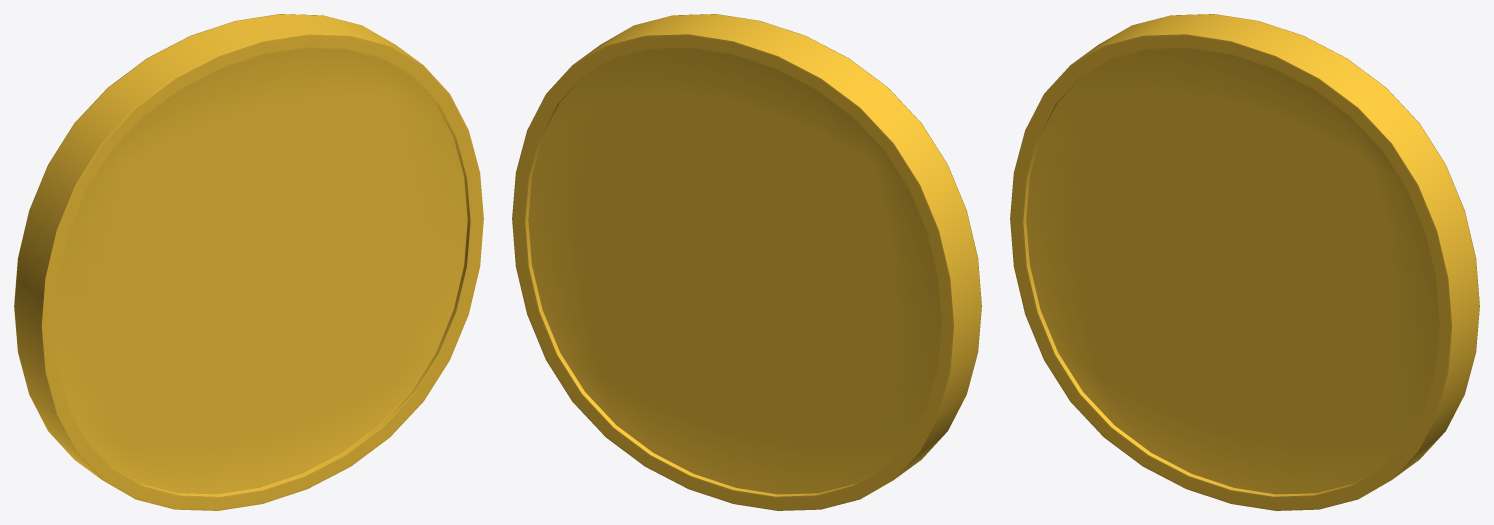
The model's file is Coin.fbx.
3 views of the same model, side by side, from view 1: azimuth 30°, elevation 25°; view 2: azimuth 150°, elevation 25°; view 3: azimuth 330°, elevation 25° (orthographic).
Parts seen in each view (by area): view 1: Coin; view 2: Coin; view 3: Coin.
Part boxes in pixels (<box>): Coin: <box>14,14,483,510</box>; Coin: <box>512,14,981,510</box>; Coin: <box>1010,14,1479,510</box>.
Size of the model in its own units: 1.83 by 1.83 by 0.2.
